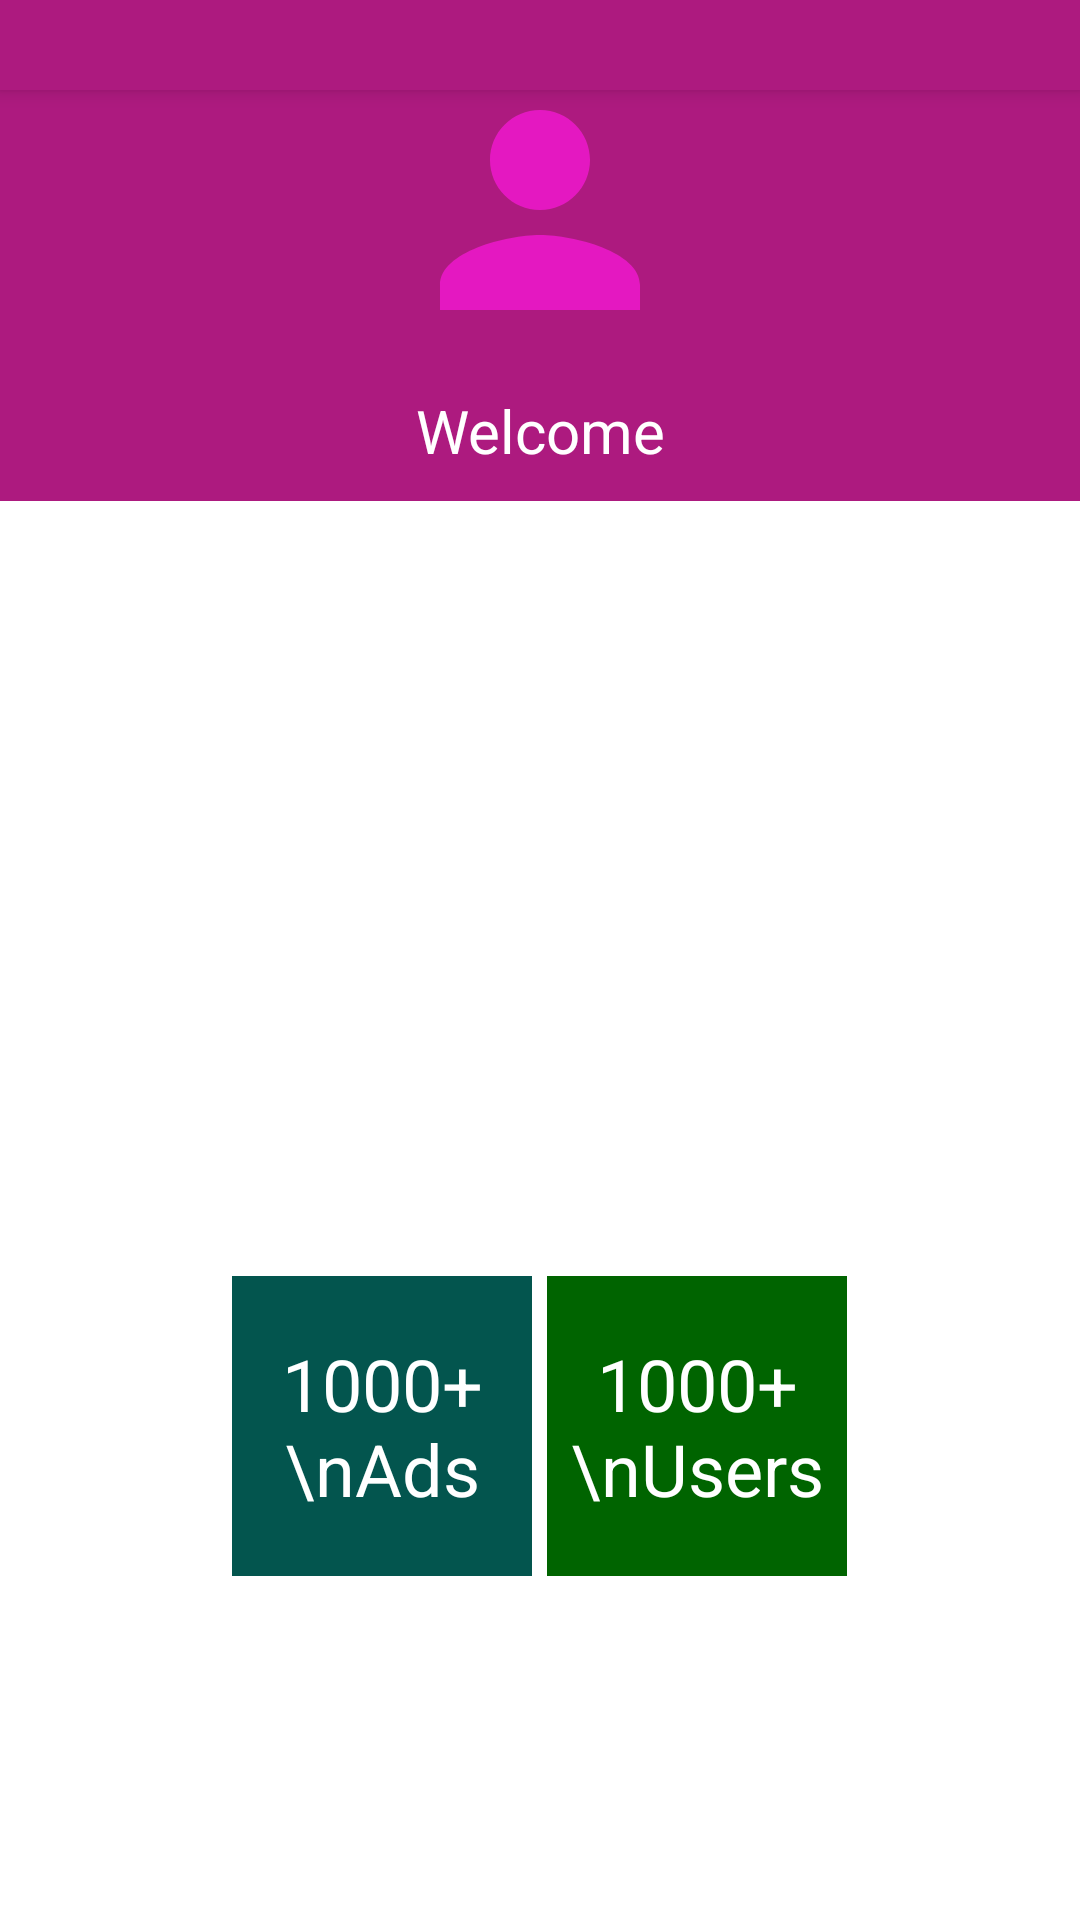

Named icons in this screenshot (1080*1920) and their bounding boxes, (x1, y1, x2, y2):
user: (440, 110, 640, 310)
